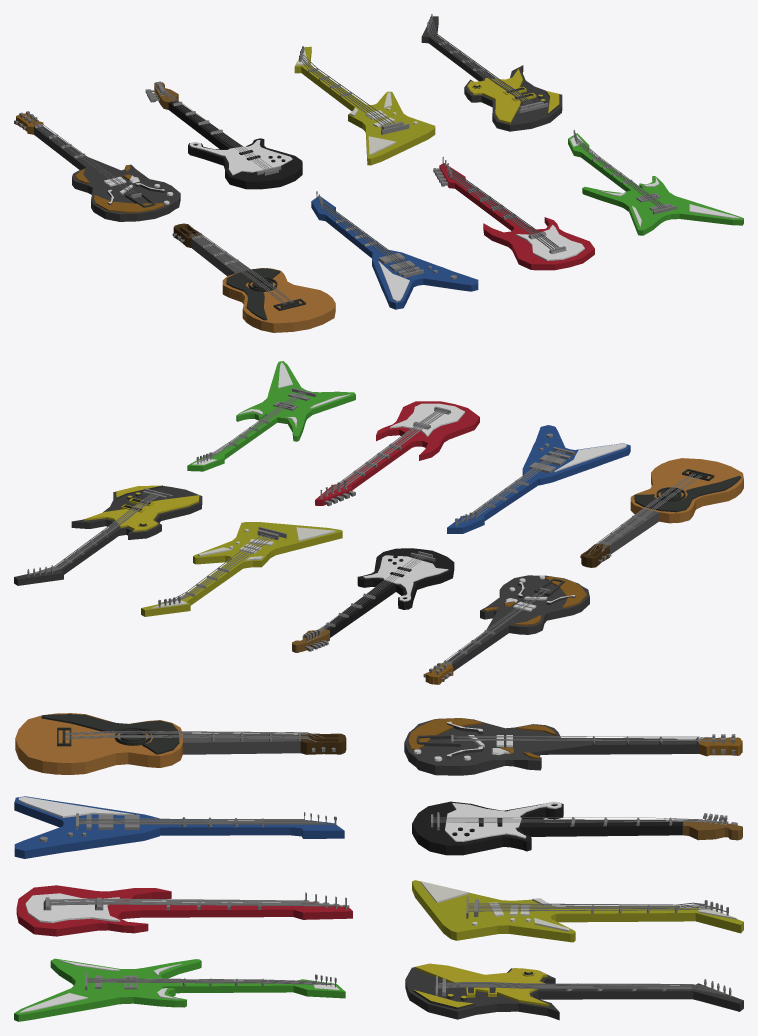
Rendered from guitars.fbx.
3 renders of one model, top to bottom at view 1: azimuth 30°, elevation 25°; view 2: azimuth 150°, elevation 25°; view 3: azimuth 270°, elevation 25°, orthographic. The views are drawn at different scales.
Parts seen in each view (by area): view 1: guitar4, guitar5, guitar6, guitar1, guitar8, guitar3, guitar7, guitar2; view 2: guitar4, guitar5, guitar8, guitar7, guitar6, guitar1, guitar2, guitar3; view 3: guitar4, guitar5, guitar6, guitar8, guitar1, guitar7, guitar2, guitar3.
Part boxes in pixels (x1=…): guitar4: x1=172, y1=223, x2=335, y2=332; guitar5: x1=14, y1=111, x2=180, y2=221; guitar6: x1=145, y1=81, x2=302, y2=189; guitar1: x1=433, y1=156, x2=594, y2=270; guitar8: x1=421, y1=14, x2=562, y2=131; guitar3: x1=568, y1=130, x2=743, y2=235; guitar7: x1=294, y1=46, x2=435, y2=165; guitar2: x1=311, y1=191, x2=478, y2=309; guitar4: x1=580, y1=458, x2=743, y2=567; guitar5: x1=423, y1=575, x2=589, y2=684; guitar8: x1=14, y1=485, x2=202, y2=585; guitar7: x1=141, y1=522, x2=342, y2=616; guitar6: x1=292, y1=548, x2=454, y2=652; guitar1: x1=315, y1=401, x2=479, y2=506; guitar2: x1=447, y1=425, x2=630, y2=533; guitar3: x1=187, y1=361, x2=355, y2=471; guitar4: x1=15, y1=713, x2=346, y2=774; guitar5: x1=404, y1=718, x2=742, y2=775; guitar6: x1=412, y1=801, x2=742, y2=855; guitar8: x1=405, y1=963, x2=743, y2=1020; guitar1: x1=16, y1=885, x2=352, y2=936; guitar7: x1=412, y1=880, x2=743, y2=942; guitar2: x1=14, y1=796, x2=344, y2=858; guitar3: x1=14, y1=958, x2=345, y2=1021.
Size of the model in its own units: 1408 by 46.7 by 1473.
